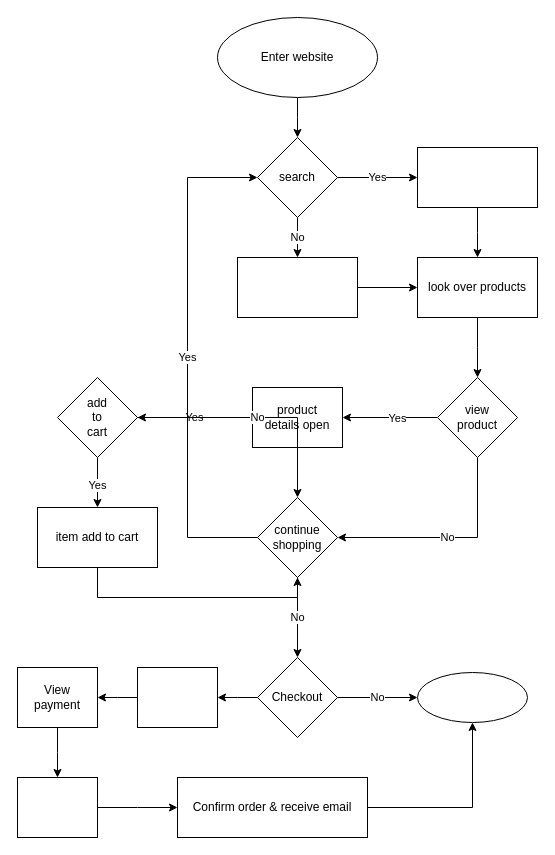
This 555x855 diagram has some shape labels left out. Here are the shapes that lost their labels. From the top down, the box of each, then its label:
(416, 146, 538, 208): input search terms
(236, 256, 358, 318): explore homepage products
(136, 666, 218, 728): View cart
(416, 672, 528, 722): Leave website
(16, 776, 98, 838): Input payment
